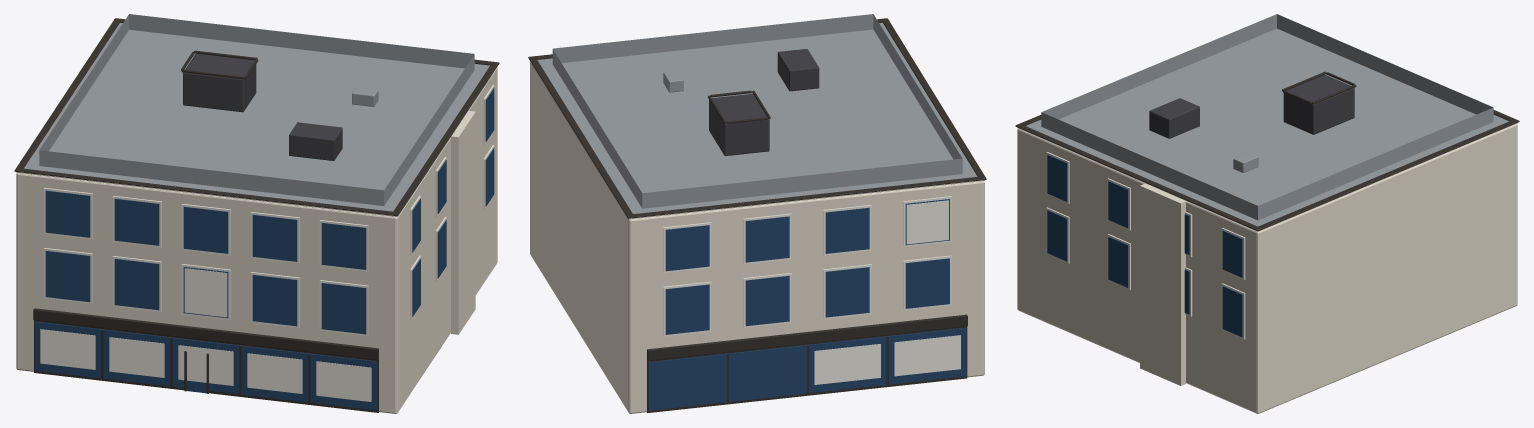
Rendered from out_joinonly.glb.
The picture shows the model from 3 angles, left to right: view 1: azimuth 30°, elevation 25°; view 2: azimuth 150°, elevation 25°; view 3: azimuth 270°, elevation 25°; orthographic projection. The views are drawn at different scales.
Parts seen in each view (by area): view 1: grp_Toy_steel, grp_Toy_sand, grp_Toy_glass, grp_Toy_ink, grp_Toy_white_Glow, grp_Toy_trim, grp_Toy_roofd; view 2: grp_Toy_steel, grp_Toy_sand, grp_Toy_glass, grp_Toy_ink, grp_Toy_white_Glow, grp_Toy_roofd, grp_Toy_trim; view 3: grp_Toy_sand, grp_Toy_steel, grp_Toy_glass, grp_Toy_roofd, grp_Toy_ink, grp_Toy_trim.
Boxes of the visible parts, <box> form: grp_Toy_steel: <box>24,14,489,211</box>; grp_Toy_sand: <box>16,67,497,413</box>; grp_Toy_glass: <box>35,88,494,410</box>; grp_Toy_ink: <box>14,18,499,412</box>; grp_Toy_white_Glow: <box>40,268,371,401</box>; grp_Toy_trim: <box>43,85,494,336</box>; grp_Toy_roofd: <box>183,53,342,160</box>; grp_Toy_steel: <box>537,14,977,213</box>; grp_Toy_sand: <box>530,61,984,413</box>; grp_Toy_glass: <box>648,199,966,410</box>; grp_Toy_ink: <box>528,18,986,412</box>; grp_Toy_white_Glow: <box>814,200,960,384</box>; grp_Toy_roofd: <box>709,49,819,155</box>; grp_Toy_trim: <box>663,196,951,336</box>; grp_Toy_sand: <box>1017,123,1517,413</box>; grp_Toy_steel: <box>1026,14,1508,226</box>; grp_Toy_glass: <box>1047,154,1242,337</box>; grp_Toy_roofd: <box>1149,74,1354,138</box>; grp_Toy_ink: <box>1015,71,1519,231</box>; grp_Toy_trim: <box>1046,152,1245,339</box>.
Bounding box in the file's own units: 34.7 × 16.4 × 34.54.
